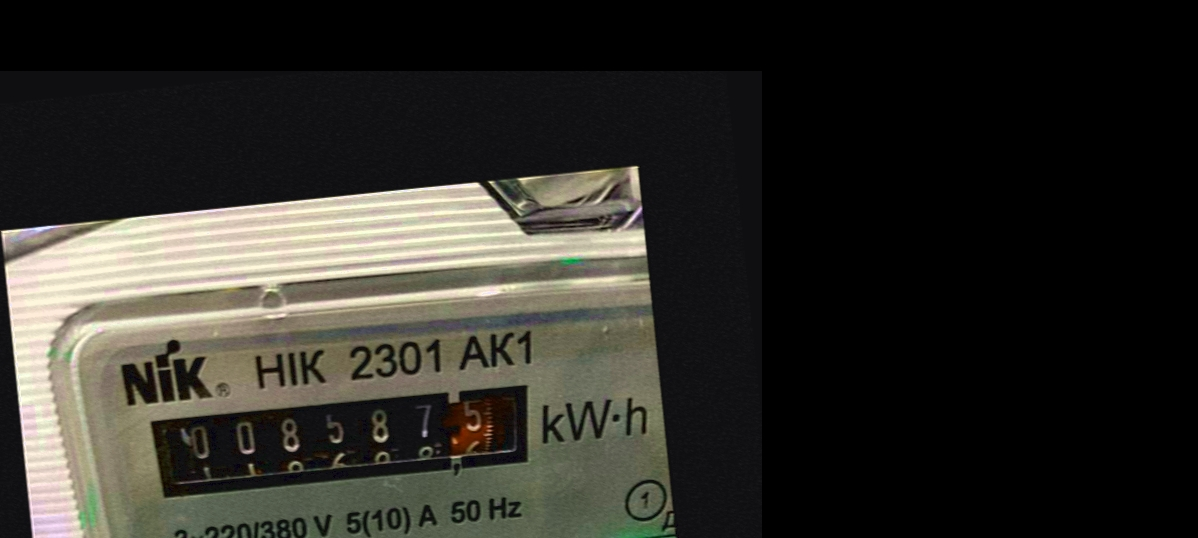0: (233, 418, 261, 461)
1: (187, 423, 215, 466)
5: (461, 396, 489, 438), (323, 410, 350, 450)
7: (412, 402, 439, 445)
8: (277, 416, 306, 459), (368, 407, 393, 450)
screen: (130, 364, 558, 525)
